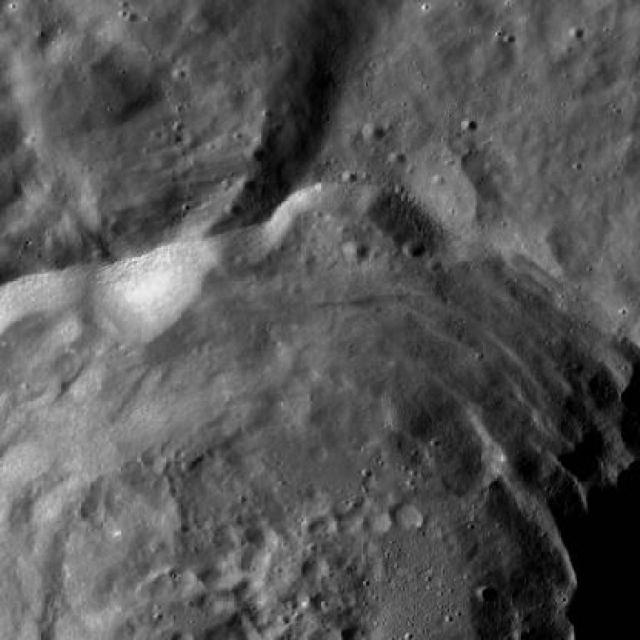crater: (12, 29, 143, 140), (202, 78, 248, 118), (344, 240, 372, 262), (153, 148, 178, 168), (363, 122, 386, 142), (476, 584, 498, 604), (403, 239, 425, 258), (537, 222, 557, 238), (247, 145, 266, 161), (0, 0, 2, 2)
